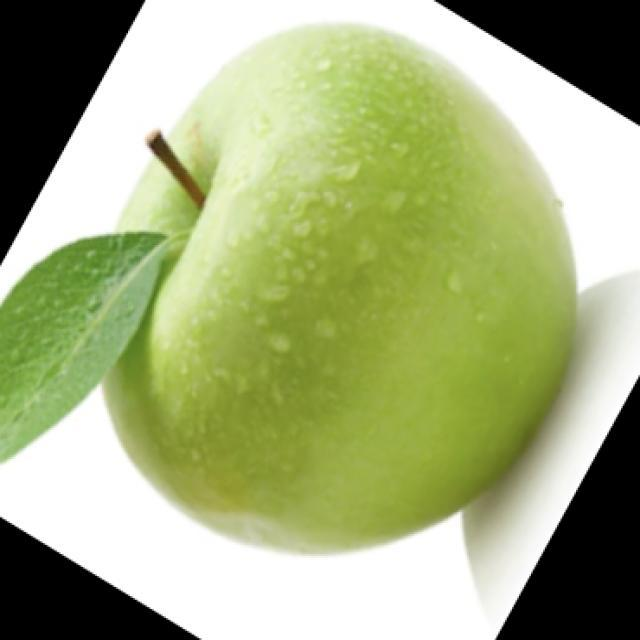Fresh Apple: (132, 37, 588, 533)
